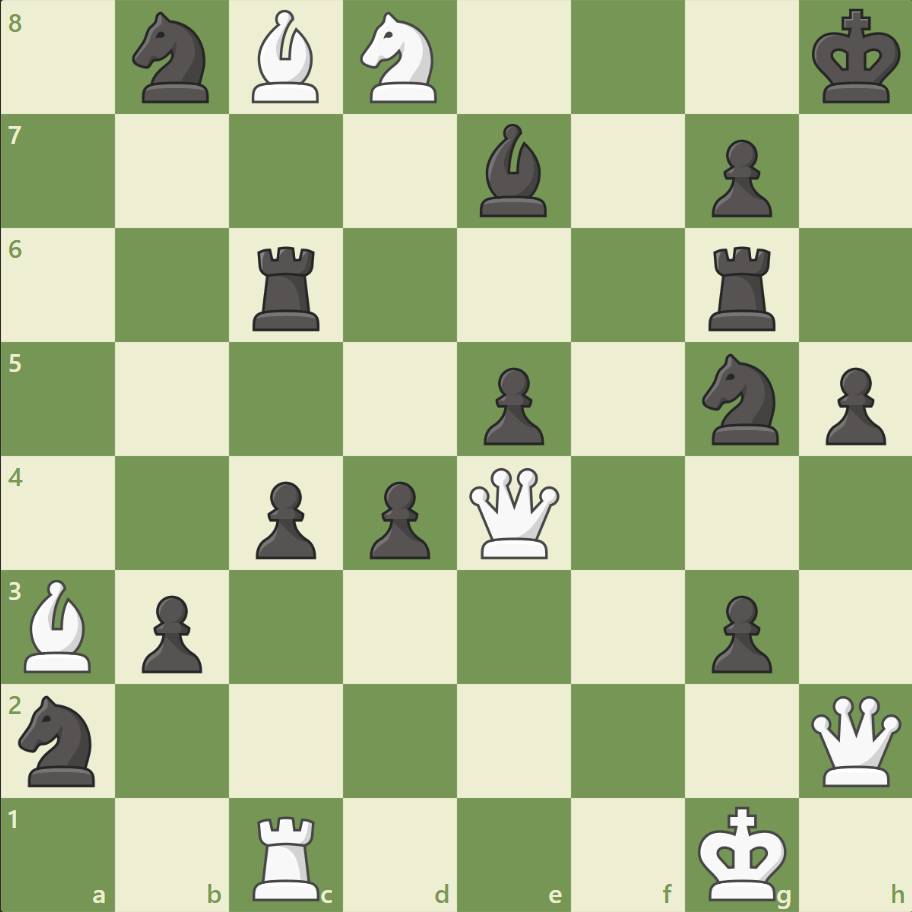B: (244, 6, 328, 109), (17, 574, 101, 676)
K: (692, 798, 792, 906)
N: (351, 7, 449, 110)
Q: (464, 463, 563, 562), (805, 690, 904, 789)
R: (246, 806, 329, 904)
b: (471, 120, 555, 222)
k: (806, 4, 906, 112)
n: (124, 7, 222, 110), (11, 688, 108, 791), (692, 348, 789, 450)
p: (701, 132, 776, 223), (474, 359, 549, 450), (247, 473, 322, 564), (133, 586, 208, 677), (701, 586, 776, 677), (815, 359, 889, 450), (361, 473, 435, 564)
r: (246, 239, 329, 336), (700, 239, 783, 336)
